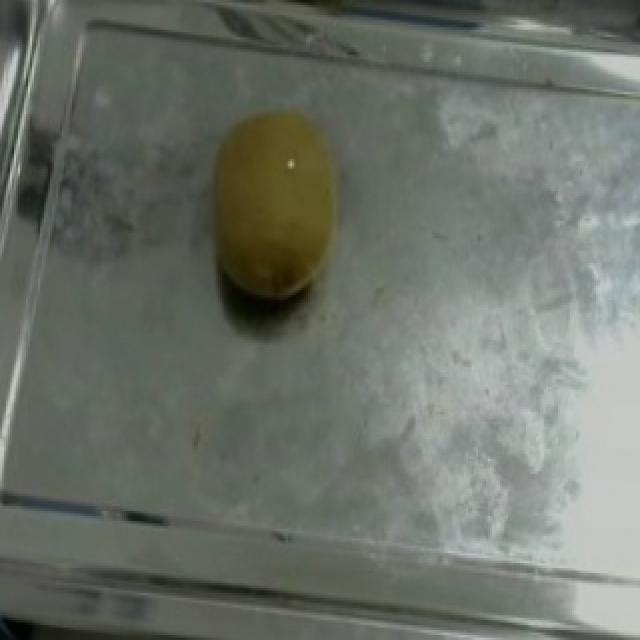Fruit: (180, 87, 368, 327)
